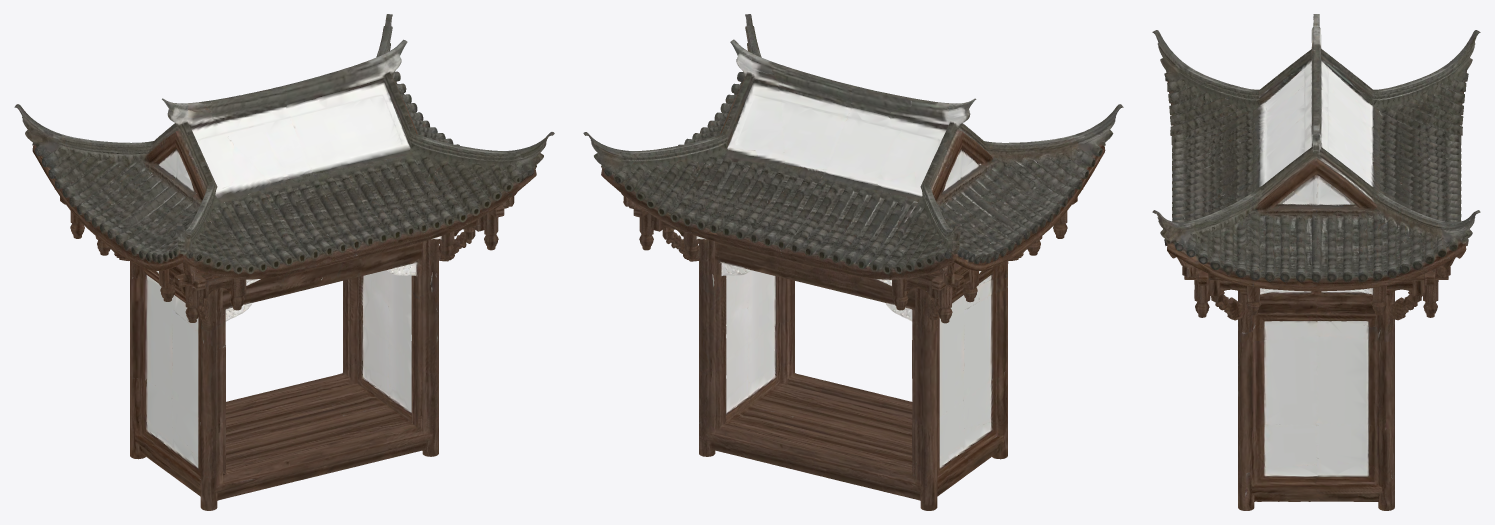
Rendered from lib_wood_pavilion.hd.glb.
3 renders of one model, left to right at view 1: azimuth 30°, elevation 25°; view 2: azimuth 150°, elevation 25°; view 3: azimuth 270°, elevation 25°, orthographic.
Bounding box in the file's own units: 1.9 × 1.84 × 1.44.
1 material, 1 textured.
